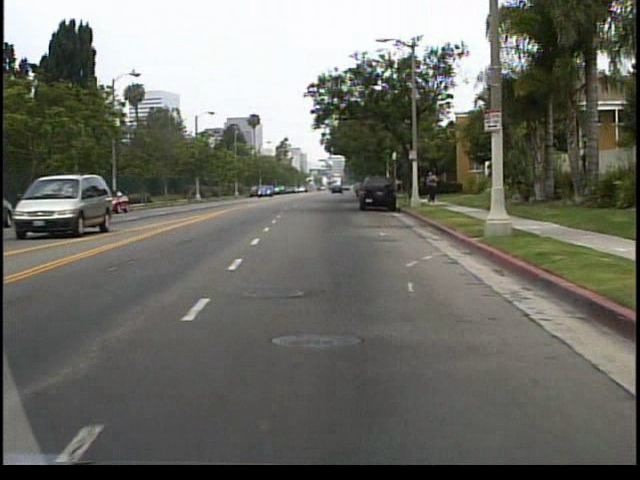person: (424, 169, 440, 206), (427, 169, 440, 205)
